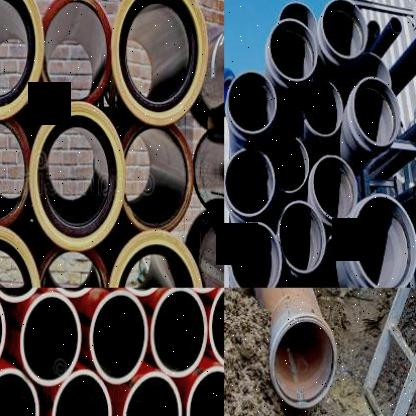pipe: (29, 101, 125, 251), (110, 0, 209, 126), (122, 120, 194, 232), (40, 0, 111, 105), (352, 194, 416, 288), (271, 318, 337, 408), (107, 229, 204, 288), (21, 293, 82, 386), (89, 290, 148, 384), (0, 0, 43, 120), (150, 288, 207, 376), (278, 201, 327, 274), (229, 221, 282, 288), (351, 76, 401, 146), (225, 148, 275, 218), (0, 118, 30, 227), (227, 70, 276, 134), (269, 18, 318, 81), (312, 155, 358, 222), (51, 369, 112, 416), (38, 248, 109, 288), (321, 0, 369, 58), (122, 371, 181, 416), (268, 134, 310, 193), (302, 79, 343, 136), (185, 366, 224, 416), (0, 367, 39, 416), (209, 288, 224, 368), (390, 16, 402, 34)
